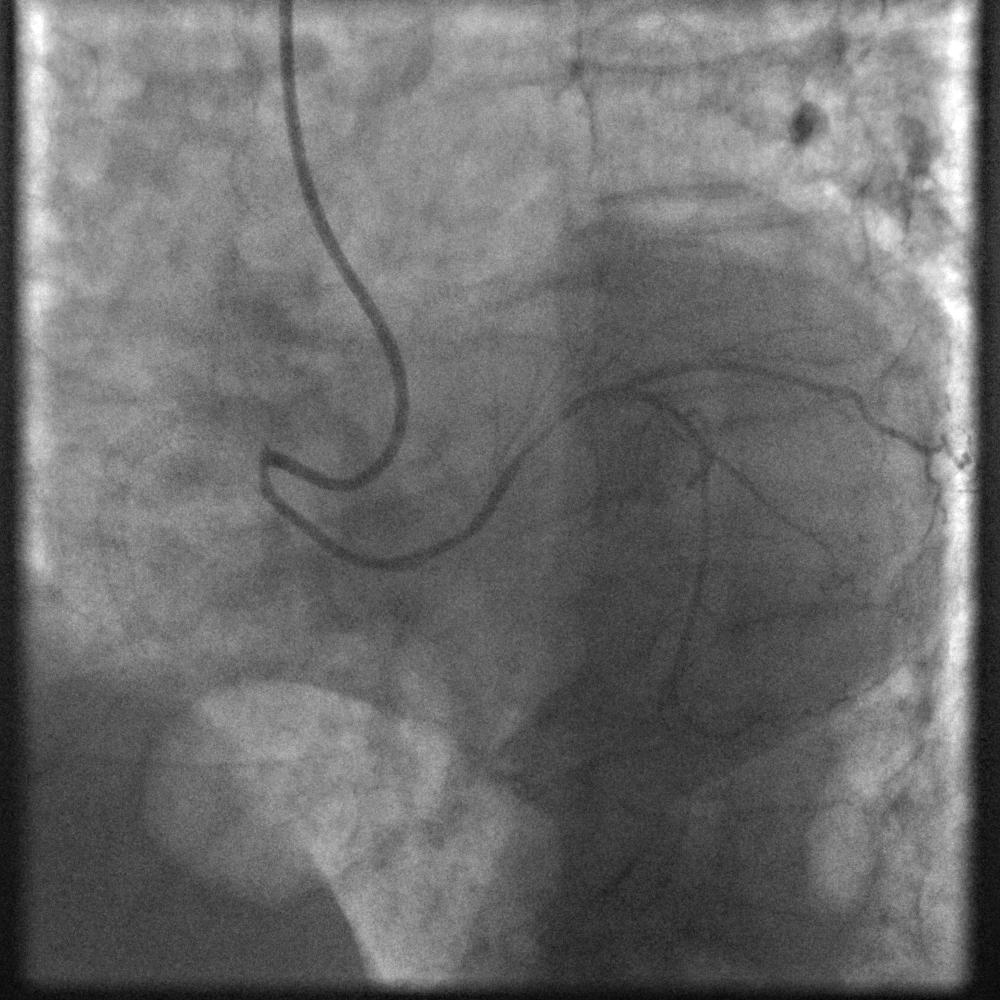Stenosis: (522, 399, 571, 456)
